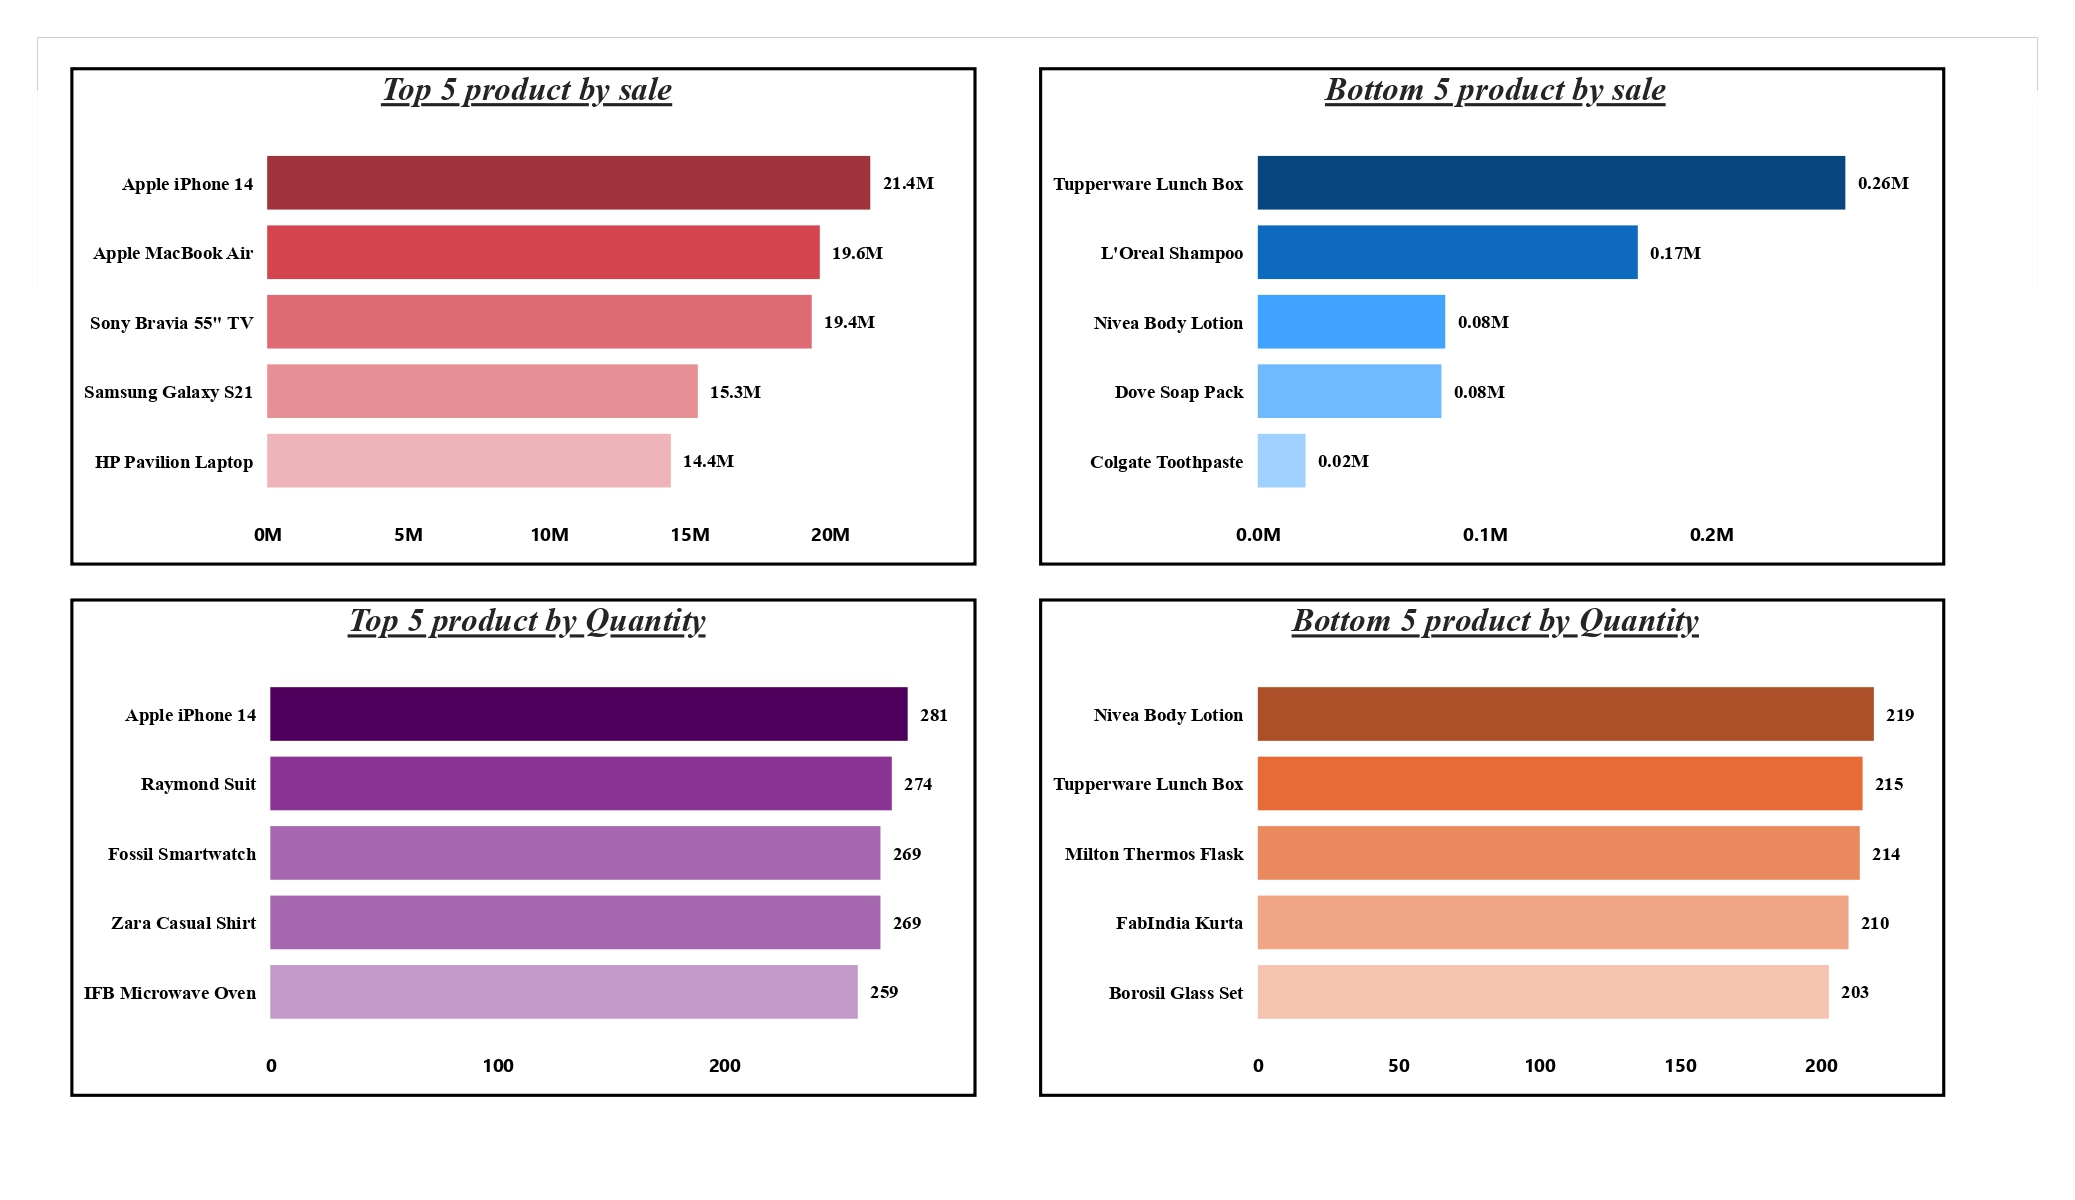

The dashboard page shown, as its layout file describes it:
{"tool":"powerbi","page":{"name":"Top/Bottom Analysis1","canvas":[1280,720],"ordinal":1},"visuals":[{"type":"barChart","title":"Top 5 product by sale","fields":{"Category":["Dim Product.Product Name"],"Y":["Sum(Fact Table. Net Sales)"]},"box":[20.8,18.9,580.2,319.4],"z":0},{"type":"barChart","title":"Bottom 5 product by sale","fields":{"Category":["Dim Product.Product Name"],"Y":["Sum(Fact Table. Net Sales)"]},"box":[640.6,18.9,580.2,319.4],"z":1000},{"type":"barChart","title":"Top 5 product by Quantity","fields":{"Category":["Dim Product.Product Name"],"Y":["Sum(Fact Table.Units Sold)"]},"box":[20.8,359.1,580.2,319.4],"z":2000},{"type":"barChart","title":"Bottom 5 product by Quantity","fields":{"Category":["Dim Product.Product Name"],"Y":["Sum(Fact Table.Units Sold)"]},"box":[640.6,359.1,580.2,319.4],"z":3000}]}

Visuals, with their boxes in screenshot pixels (x1, y1, x2, y2):
"Top 5 product by sale" barChart: Rect(75, 67, 970, 559)
"Bottom 5 product by sale" barChart: Rect(1031, 67, 1926, 559)
"Top 5 product by Quantity" barChart: Rect(75, 592, 970, 1084)
"Bottom 5 product by Quantity" barChart: Rect(1031, 592, 1926, 1084)
